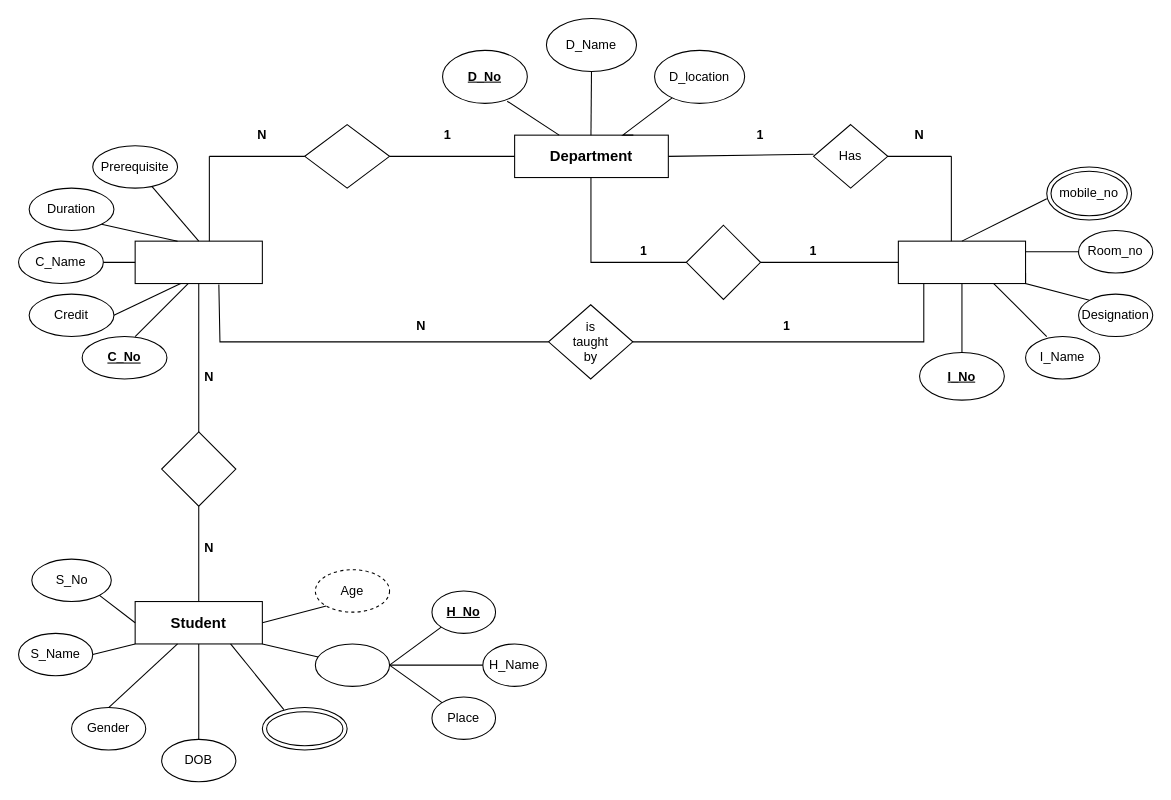
Some shapes in this 1171 by 800 pixel diagram are drawn without their labels. The shapes that lost their labels are listed below. From the top down, each one's box as (x1, y1, x2, y2) in pixels, then its label:
(304, 123, 390, 188): Offer
(134, 240, 262, 284): Course
(685, 224, 761, 299): is headed by
(897, 240, 1026, 284): Instructor
(161, 431, 236, 506): Enrolled by
(314, 643, 390, 686): Address
(261, 706, 347, 750): Email
